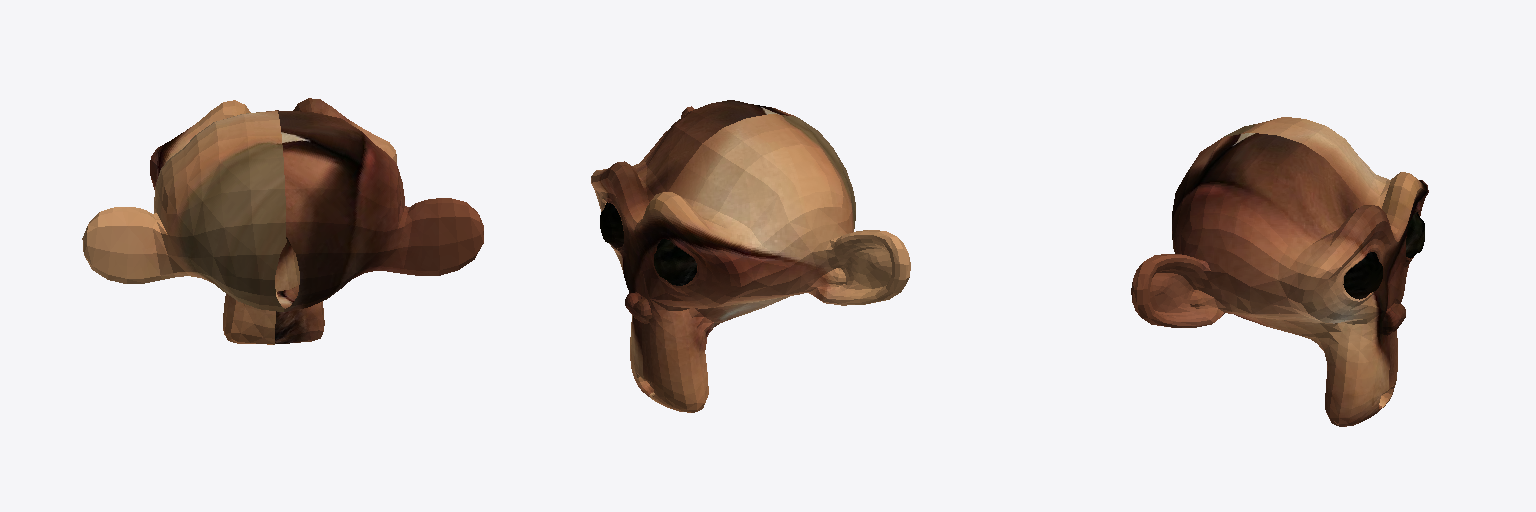
3 renders of one model, left to right at view 1: azimuth 30°, elevation 25°; view 2: azimuth 150°, elevation 25°; view 3: azimuth 270°, elevation 25°, orthographic.
Parts seen in each view (by area): view 1: Suzanne; view 2: Suzanne; view 3: Suzanne.
Boxes of the visible parts, <box> form: Suzanne: <box>82,98,483,344</box>; Suzanne: <box>591,100,910,412</box>; Suzanne: <box>1131,117,1428,426</box>.
Bounding box in the file's own units: 1.55 × 1.24 × 1.27.
1 materials, 1 textured.